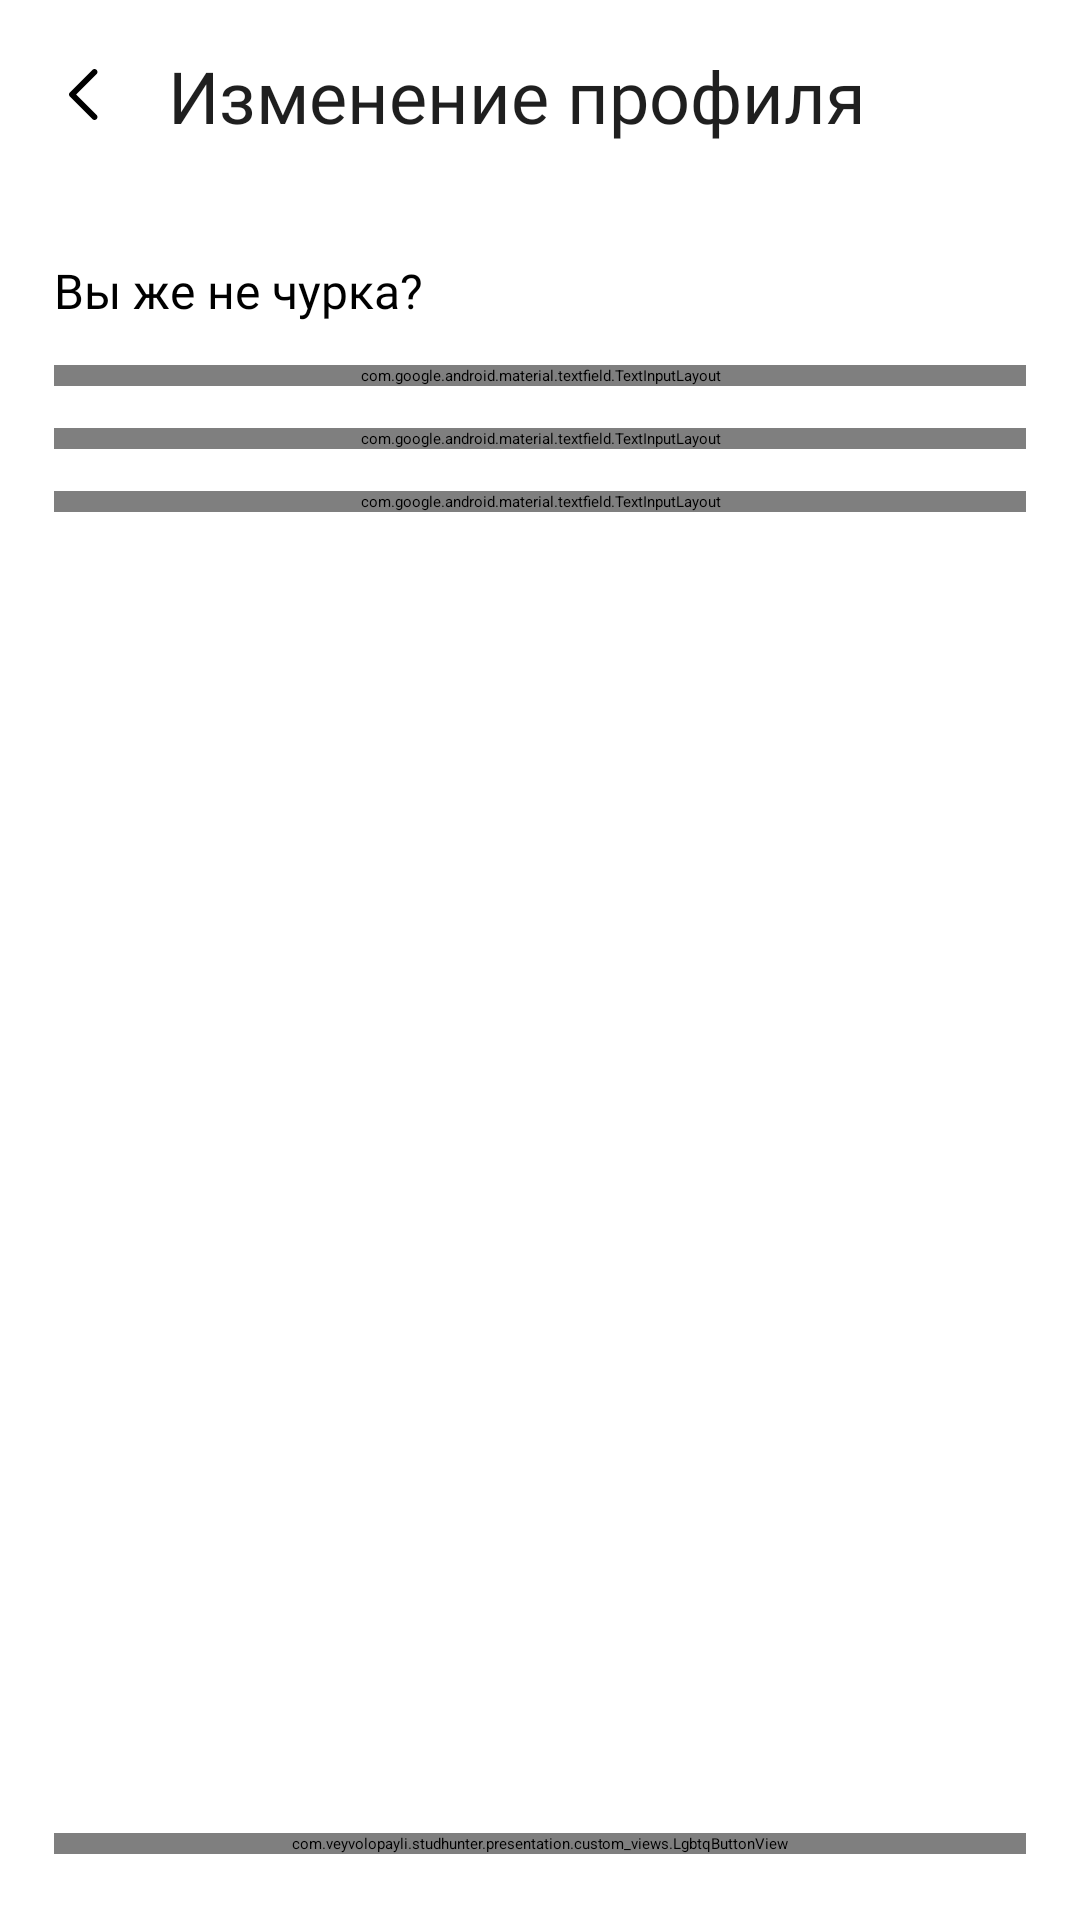

Point at icon controls on the screen. Image size 1080px×1920px, points as [x,y].
back: [83,94]
